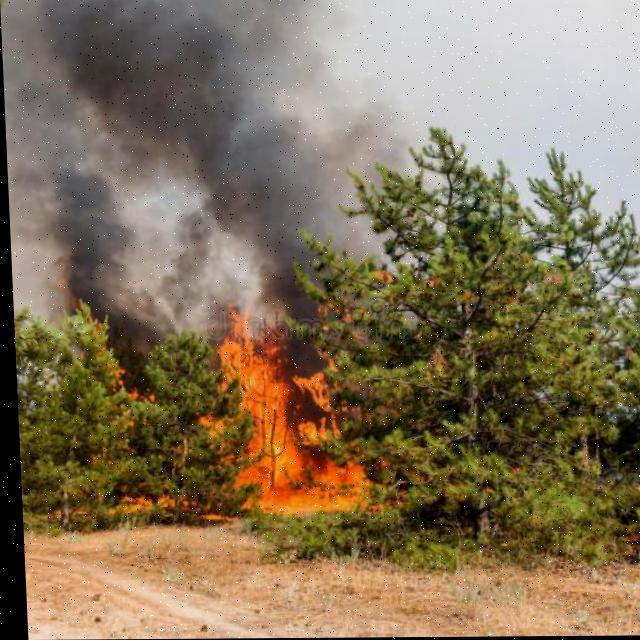Fire: (200, 307, 390, 515), (65, 304, 202, 518)
